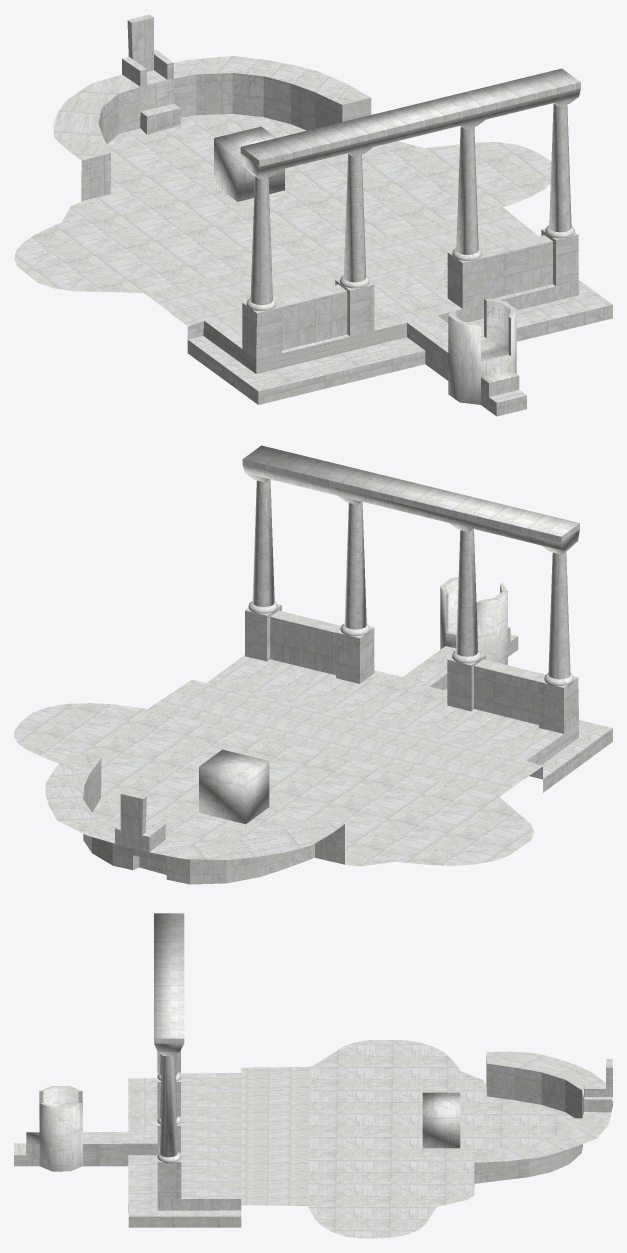
The model's file is Liturgic.fbx.
3 renders of one model, top to bottom at view 1: azimuth 30°, elevation 25°; view 2: azimuth 150°, elevation 25°; view 3: azimuth 270°, elevation 25°, orthographic. The views are drawn at different scales.
Visible parts, largest first — view 1: Liturgic; view 2: Liturgic; view 3: Liturgic.
Part boxes in pixels (left/top/right/bottom): Liturgic: left=14, top=14, right=612, bottom=416; Liturgic: left=14, top=445, right=612, bottom=884; Liturgic: left=14, top=913, right=612, bottom=1238.
Bounding box in the file's own units: 943 × 404 × 1200.
